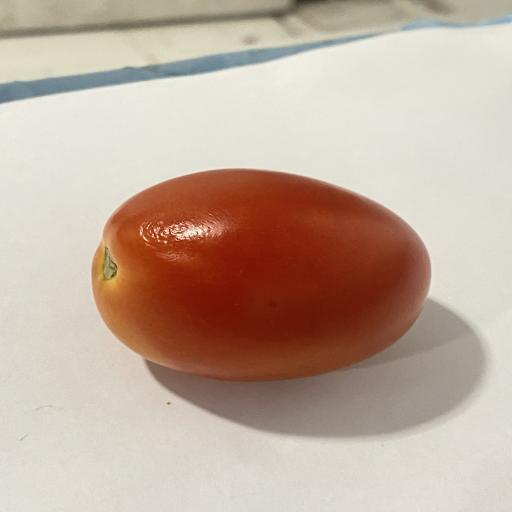overipe: (92, 169, 431, 381)
